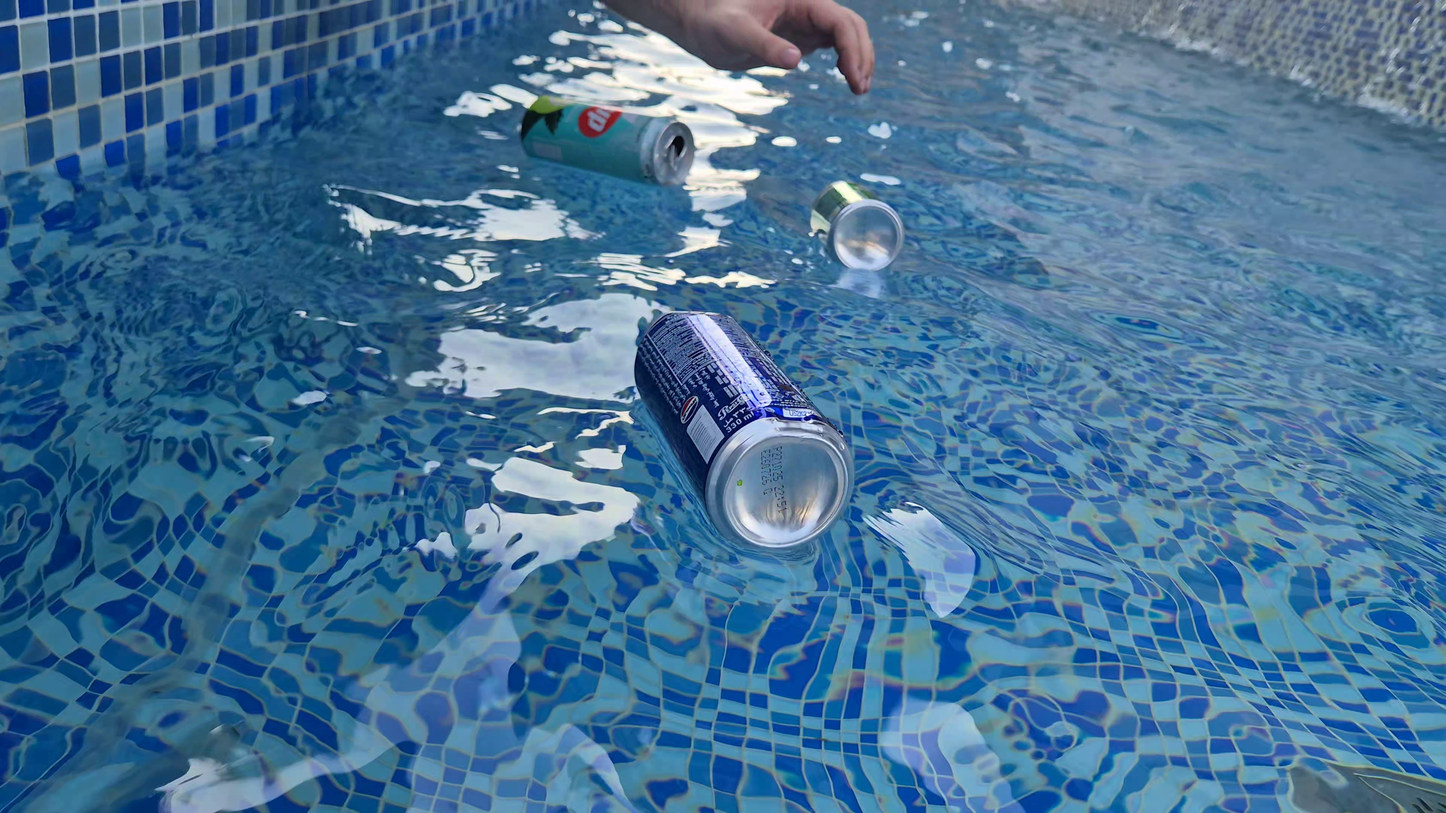debris: (632, 298, 856, 565), (515, 87, 701, 202), (801, 169, 908, 284)
